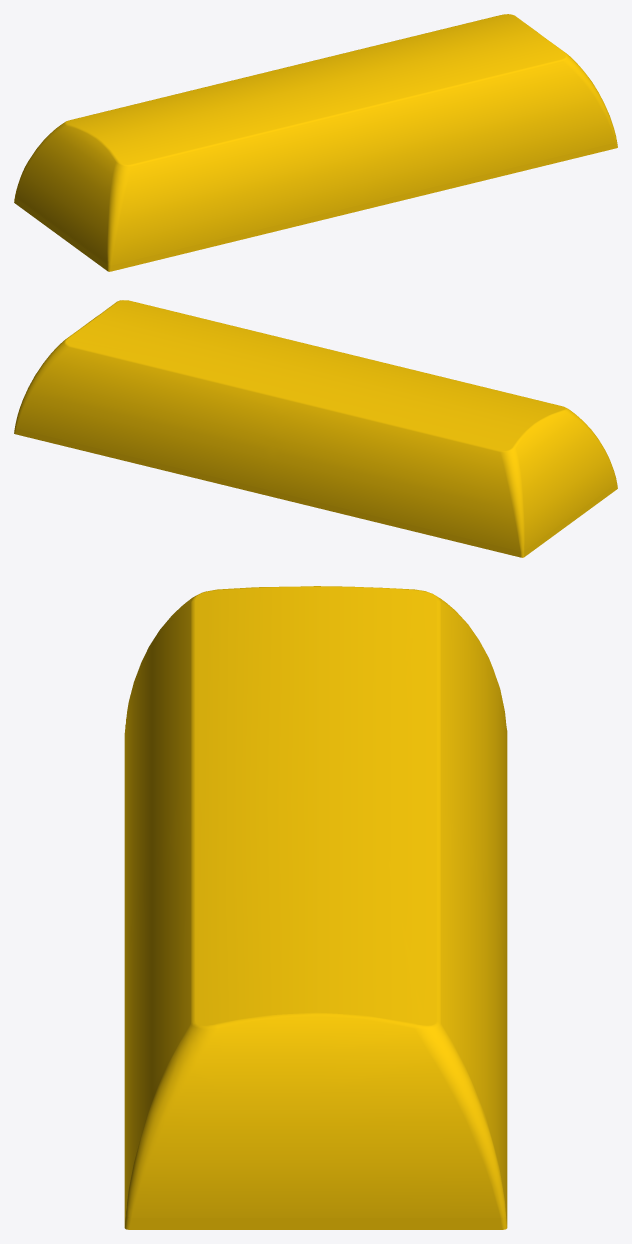
The model's file is 3u_convex_compressed.glb.
3 renders of one model, top to bottom at view 1: azimuth 30°, elevation 25°; view 2: azimuth 150°, elevation 25°; view 3: azimuth 270°, elevation 25°, orthographic. The views are drawn at different scales.
Visible parts, largest first — view 1: Body78; view 2: Body78; view 3: Body78.
Boxes of the visible parts, bbox=[...] form: Body78: bbox=[14, 14, 617, 271]; Body78: bbox=[14, 300, 617, 557]; Body78: bbox=[124, 586, 507, 1229].
Size of the model in its own units: 56.28 by 9.57 by 18.28.
